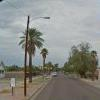Palm tree: (21, 27, 48, 74)
